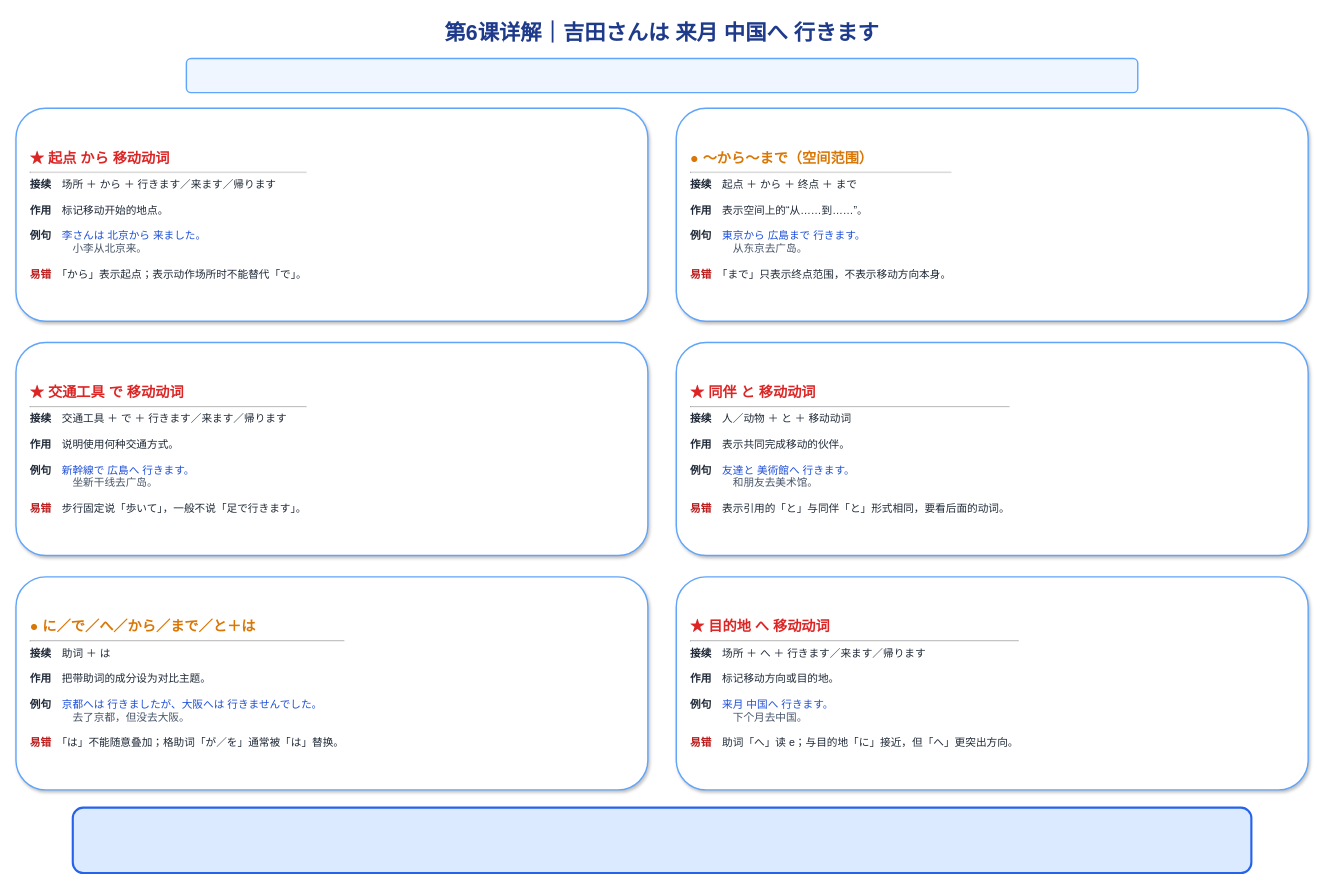
The diagram is 1325 pixels wide and 886 high, and some of its shapes have lost their labels. The shapes that lost their labels are listed below. From the top down, each one's centre as x and y in pixels, then its label:
At (661,75): "本课目标：用へ／から／で／と描述移动的目的地、起点、交通工具和同行者。".
At (661,840): "本课结构关系 移动句以移动动词为中心，不同助词分别补充目的地、起点、交通方式和同伴。 最低掌握标准 能一次说完整：谁＋何时＋从哪里＋和谁＋乘什么＋到哪里＋移动。".
